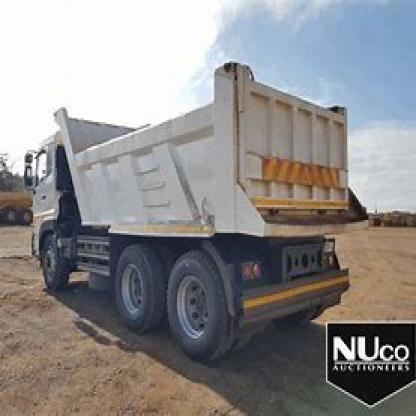dump_truck: (21, 59, 365, 374)
